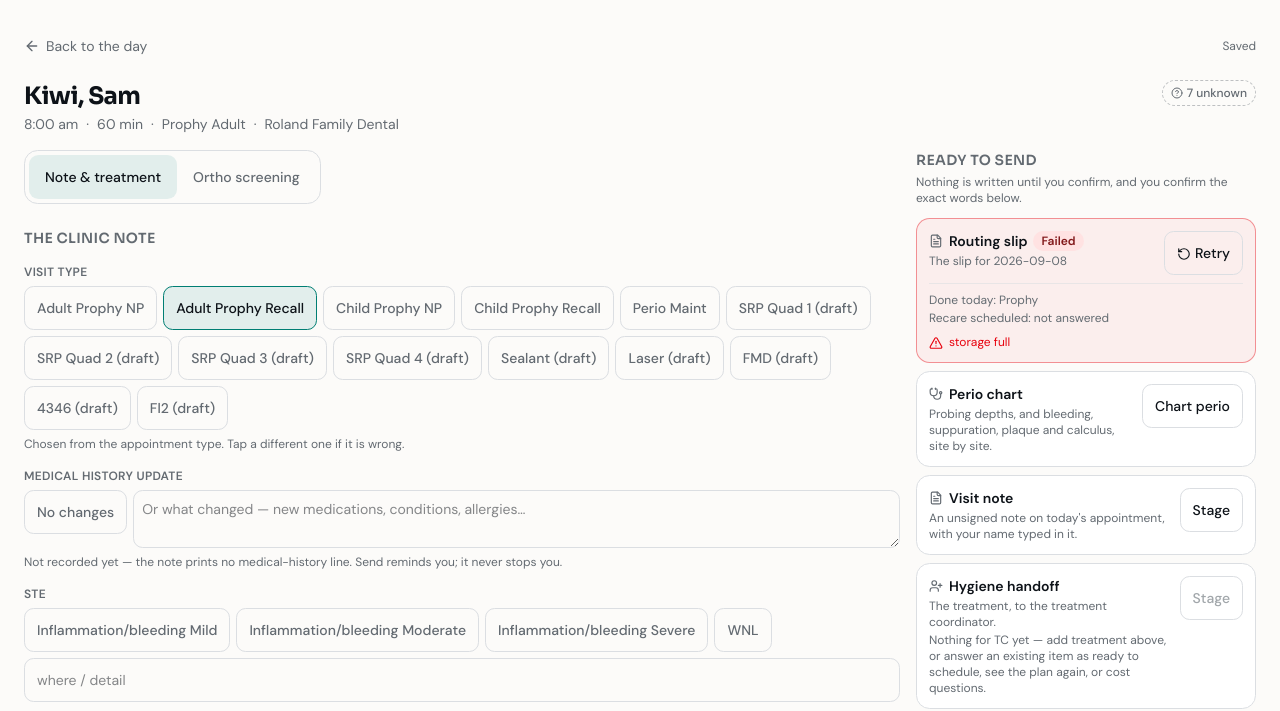
Test case: what the results may claim › a retry puts the SAME words back on the list
Click the button with test id "hyg-retry-router": {"x": 1204, "y": 253} [1164, 231, 1243, 275]
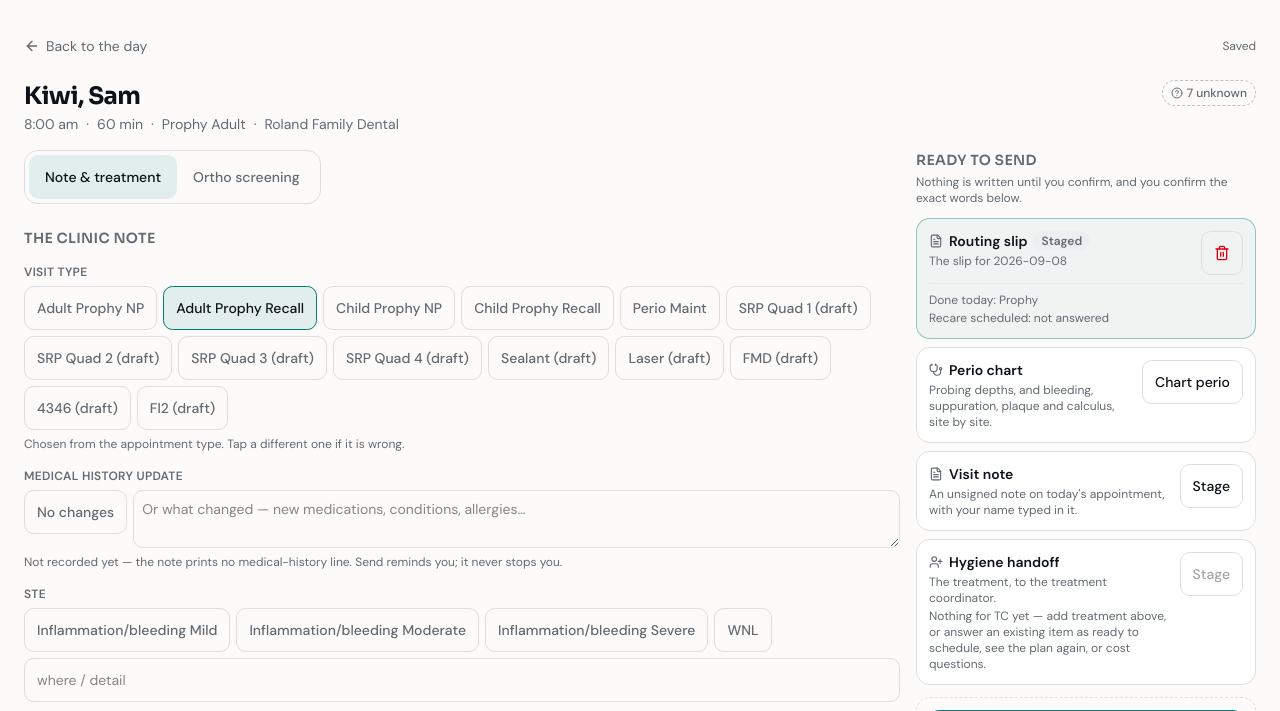
Check: the list with test id "hyg-staged-preview-router" shows "Done today: Prophy", box [929, 292, 1038, 308]
Check: the text "Staged" is shown, box [1034, 231, 1090, 251]
